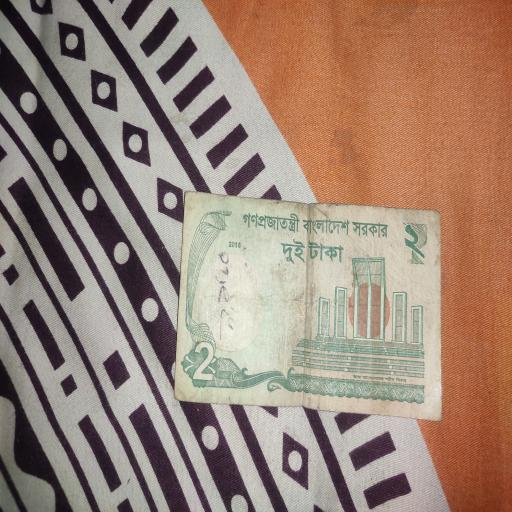2taka: (184, 192, 442, 422)
